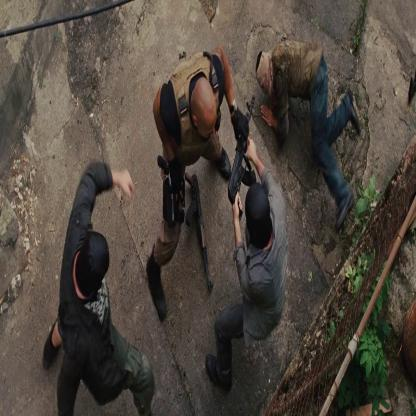gun: (220, 71, 262, 240), (182, 162, 214, 292)
